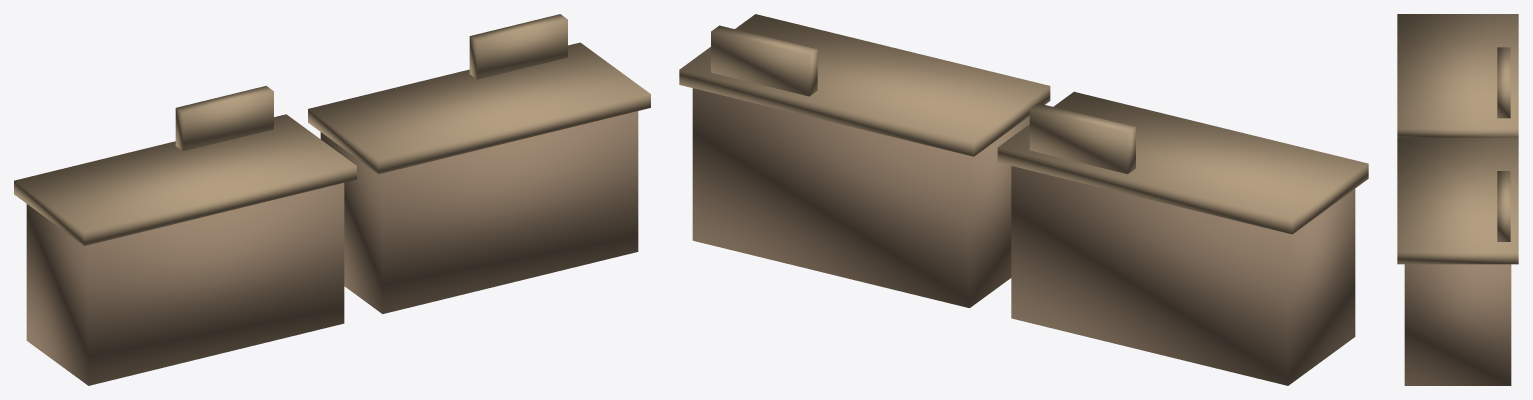
File: clerk_counter__cluster.glb
3 renders of one model, left to right at view 1: azimuth 30°, elevation 25°; view 2: azimuth 150°, elevation 25°; view 3: azimuth 270°, elevation 25°, orthographic. The views are drawn at different scales.
Parts seen in each view (by area): view 1: world; view 2: world; view 3: world.
Boxes of the visible parts, x1,y1,x2,y2 form: world: (14,14,650,385); world: (679,14,1368,385); world: (1397,14,1518,385).
Bounding box in the file's own units: 3.43 × 1.14 × 0.74.
